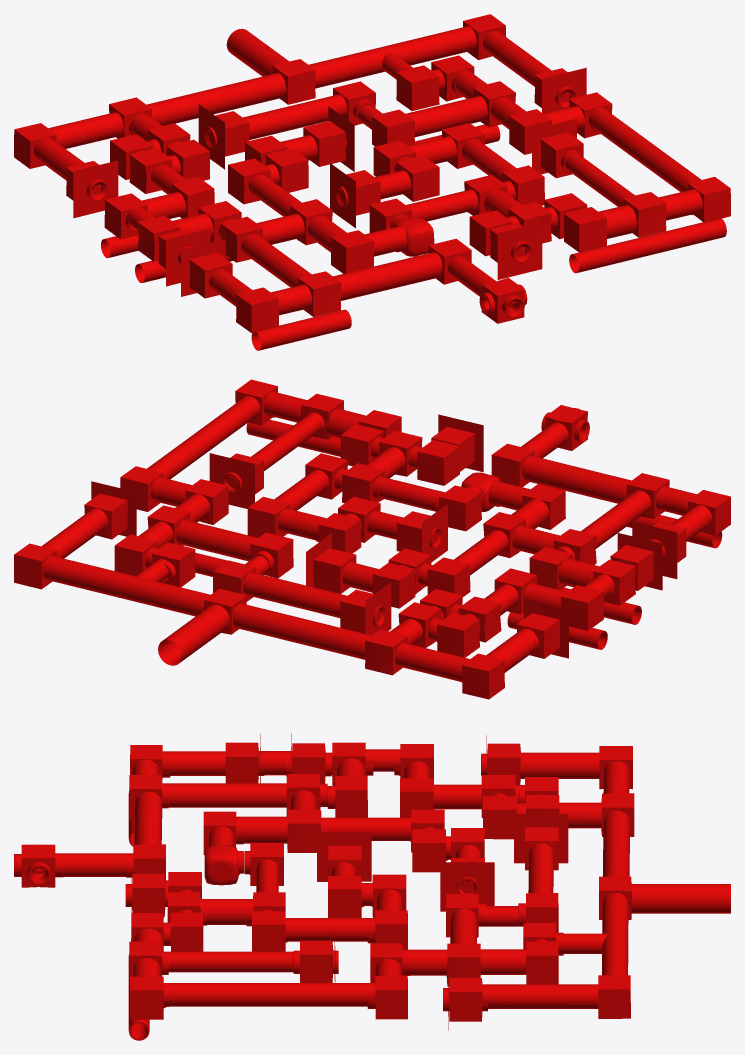
File: pipesystembrokenup.fbx
3 views of the same model, one above another, from view 1: azimuth 30°, elevation 25°; view 2: azimuth 150°, elevation 25°; view 3: azimuth 270°, elevation 25° (orthographic). The views are drawn at different scales.
Visible parts, largest first — view 1: polySurface88, polySurface89, polySurface117, polySurface93, pCube38, pCube32, polySurface91, pCylinder86, pCube33, pCube34, pCylinder88, pCube36 (+77 smaller); view 2: polySurface88, polySurface89, polySurface117, polySurface93, polySurface91, pCylinder86, polySurface125, pCube32, pCube34, pCube33, pCube30, polySurface130 (+77 smaller); view 3: polySurface117, polySurface99, polySurface125, polySurface94, polySurface116, pCube34, pCube33, pCube36, polySurface88, polySurface120, polySurface95, pCylinder89 (+66 smaller).
Boxes of the visible parts, x1,y1,x2,y2 form: polySurface88: (308,26,476,88); polySurface89: (147,73,286,125); polySurface117: (588,107,701,192); polySurface93: (333,252,441,300); pCube38: (490,222,542,279); pCube32: (66,160,118,218); polySurface91: (243,94,347,139); pCylinder86: (532,119,583,178); pCube33: (330,163,380,228); pCube34: (198,104,249,169); pCylinder88: (181,239,232,298); pCube36: (303,107,354,171); polySurface88: (43,555,210,616); polySurface89: (233,603,371,659); polySurface117: (147,396,260,479); polySurface93: (523,456,631,503); polySurface91: (243,572,347,617); pCylinder86: (209,453,263,508); polySurface125: (158,604,229,665); pCube32: (516,601,568,658); pCube34: (340,582,391,635); pCube33: (396,503,447,562); pCube30: (84,481,136,539); polySurface130: (176,519,257,561); polySurface117: (163,983,375,1006); polySurface99: (161,783,286,807); polySurface125: (631,884,730,913); polySurface94: (482,984,598,1008); polySurface116: (161,951,293,972); pCube34: (514,814,568,870); pCube33: (317,832,371,881); pCube36: (440,858,494,911); polySurface88: (602,893,628,975); polySurface120: (285,918,375,941); polySurface95: (517,752,599,778); pCylinder89: (14,844,63,887).
Size of the model in its own units: 690 by 82.51 by 824.
